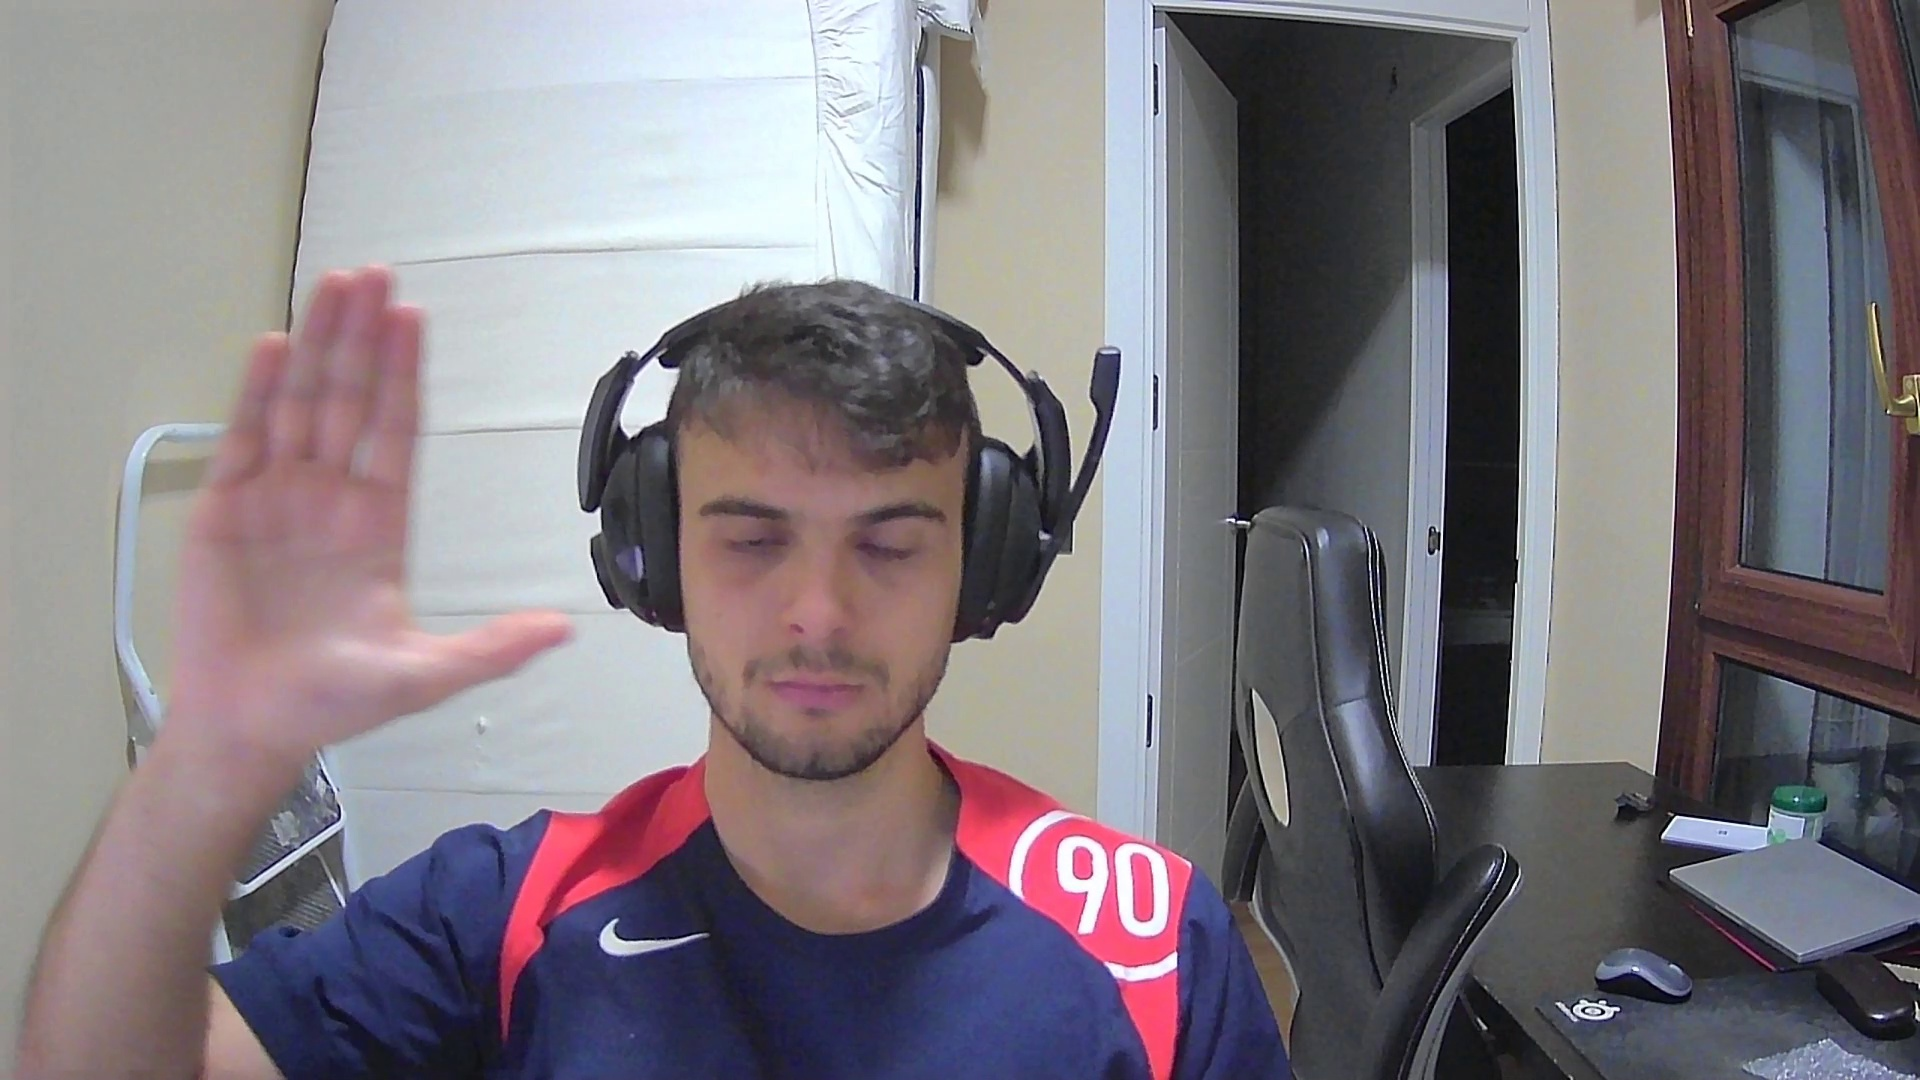Palm: (153, 258, 576, 716)
